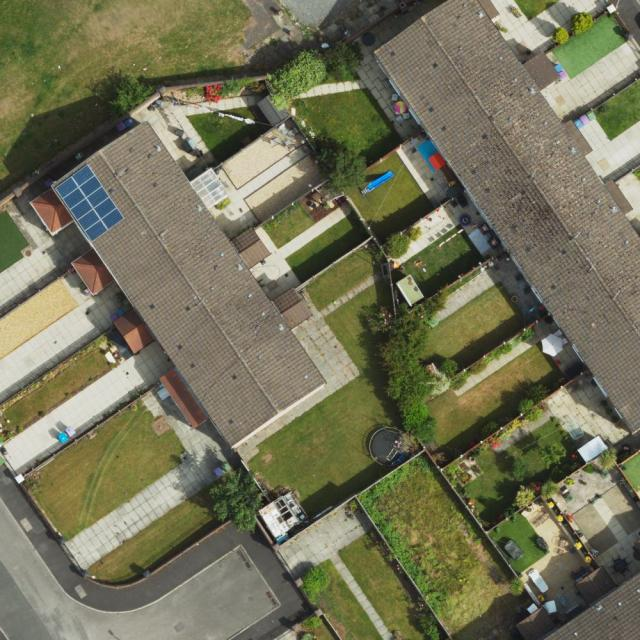roof: (375, 0, 640, 436), (31, 120, 327, 446), (542, 571, 640, 640)
solar: (55, 165, 127, 244)
